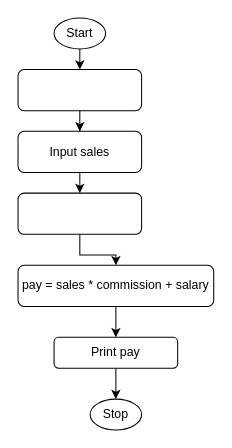
This 232x448 diagram has some shape labels left out. The centre of each missing label's shape, as x and y in pixels:
"Input commission" belongs at point (79, 213).
"Input salary" belongs at point (79, 89).
